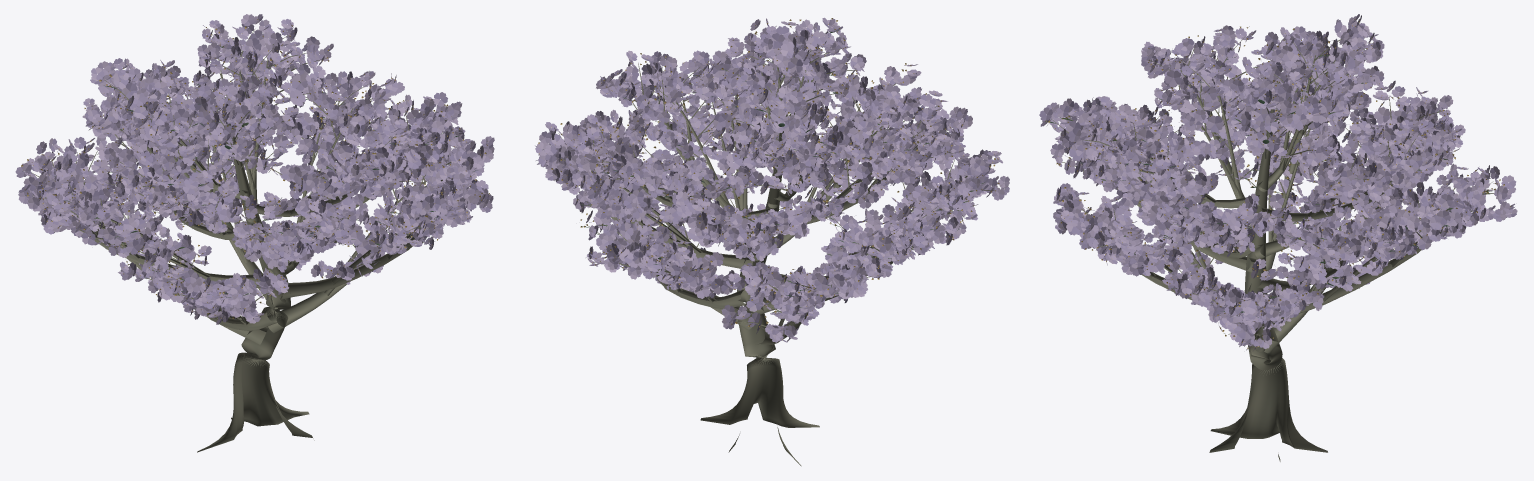
3 views of the same model, side by side, from view 1: azimuth 30°, elevation 25°; view 2: azimuth 150°, elevation 25°; view 3: azimuth 270°, elevation 25° (orthographic). The views are drawn at different scales.
Parts seen in each view (by area): view 1: leaves, branches; view 2: leaves, branches; view 3: leaves, branches.
Part boxes in pixels (x1,y1,x2,y2): leaves: (15, 14, 494, 324); branches: (32, 29, 468, 452); leaves: (535, 17, 1009, 342); branches: (558, 31, 993, 466); leaves: (1039, 14, 1517, 350); branches: (1051, 36, 1493, 461).
Size of the model in its own units: 9.78 by 8.04 by 9.07.
